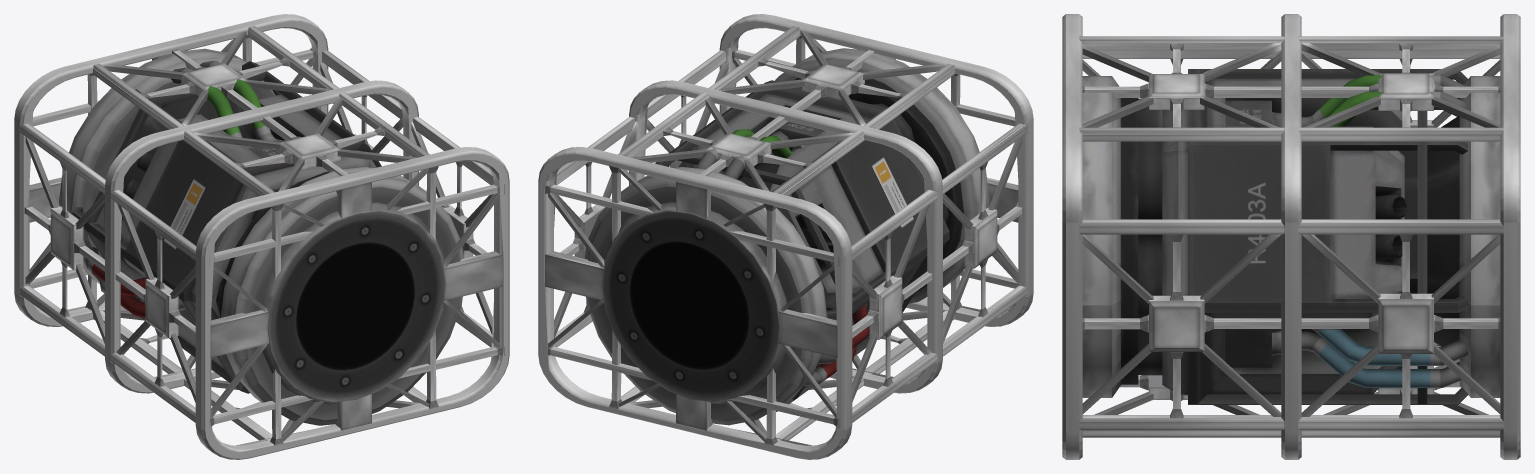
Rendered from BuffaloISRU.FBX.
3 renders of one model, left to right at view 1: azimuth 30°, elevation 25°; view 2: azimuth 150°, elevation 25°; view 3: azimuth 270°, elevation 25°, orthographic. The views are drawn at different scales.
Parts seen in each view (by area): view 1: obj_base, BuffaloFrame001, BuffaloFrame003, BuffaloFrame002, Frame009, Frame001, Frame010, SideHardpoint006, SideHardpoint008, Frame011, TopHardpoint008, TopHardpoint007 (+27 smaller); view 2: obj_base, BuffaloFrame002, BuffaloFrame003, BuffaloFrame001, Frame009, Frame001, Frame010, SideHardpoint007, SideHardpoint009, Frame011, TopHardpoint008, TopHardpoint007 (+28 smaller); view 3: obj_base, Frame010, Frame001, BuffaloFrame001, BuffaloFrame002, BuffaloFrame003, TopHardpoint010, Frame011, TopHardpoint009, Frame009, TopHardpoint004, Pilar071 (+19 smaller).
Boxes of the visible parts, x1,y1,x2,y2 form: obj_base: (59,48,463,425); BuffaloFrame001: (195,147,509,459); BuffaloFrame003: (105,80,418,393); BuffaloFrame002: (14,14,328,326); Frame009: (20,123,196,422); Frame001: (92,26,429,195); Frame010: (322,50,493,347); SideHardpoint006: (210,310,269,357); SideHardpoint008: (444,251,502,300); Frame011: (93,310,426,440); TopHardpoint008: (50,206,83,270); TopHardpoint007: (145,277,178,338); obj_base: (584,48,989,425); BuffaloFrame002: (538,147,852,459); BuffaloFrame003: (629,80,942,393); BuffaloFrame001: (719,14,1033,326); Frame009: (851,123,1027,422); Frame001: (618,26,955,195); Frame010: (554,50,725,347); SideHardpoint007: (778,309,837,357); SideHardpoint009: (545,251,603,300); Frame011: (621,310,954,440); TopHardpoint008: (869,275,902,339); TopHardpoint007: (964,207,997,268); obj_base: (1082,69,1500,404); Frame010: (1079,219,1503,430); Frame001: (1079,36,1503,141); BuffaloFrame001: (1062,14,1082,459); BuffaloFrame002: (1500,14,1520,459); BuffaloFrame003: (1281,14,1301,459); TopHardpoint010: (1378,293,1433,353); Frame011: (1082,342,1500,437); TopHardpoint009: (1149,295,1204,351); Frame009: (1082,50,1500,58); TopHardpoint004: (1378,73,1433,110); Pilar071: (1204,315,1378,332).
Size of what is drawn, in the model's own units: 1.59 by 1.25 by 1.69.
